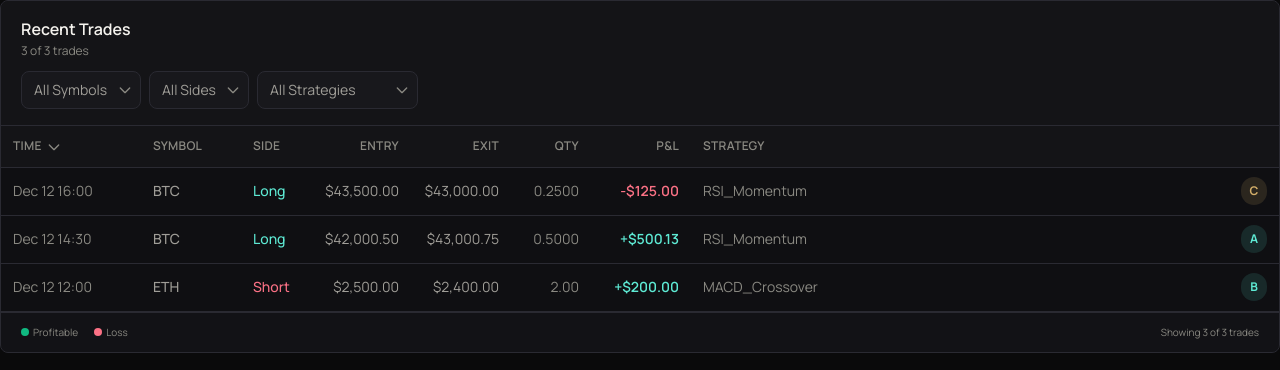
Test case: RecentTrades Component › Filtering › shows filtered message
The image size is (1280, 370).
# Apply a filter
Select "BTC" in the 1st dropdown: (81, 90) [21,71,141,109]
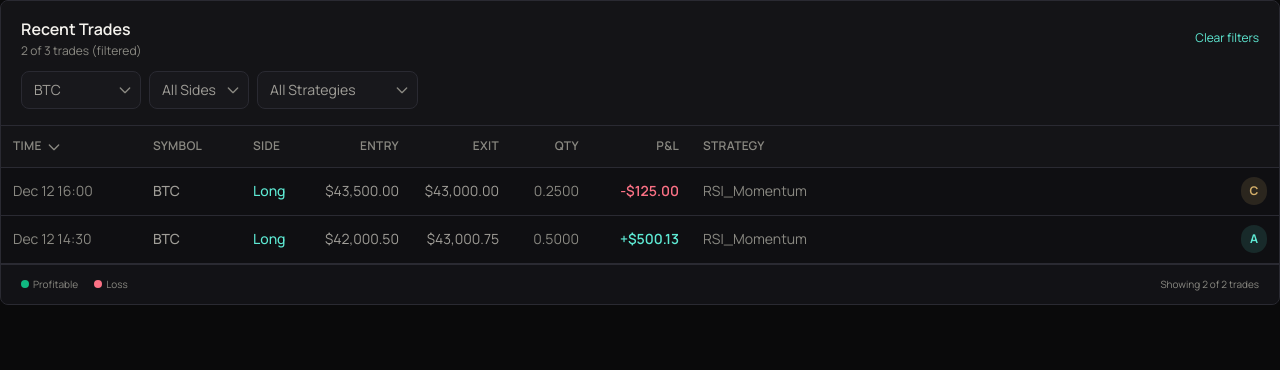
Check: the text "2 of 3 trades (filtered)" is shown, box [21,43,142,59]
